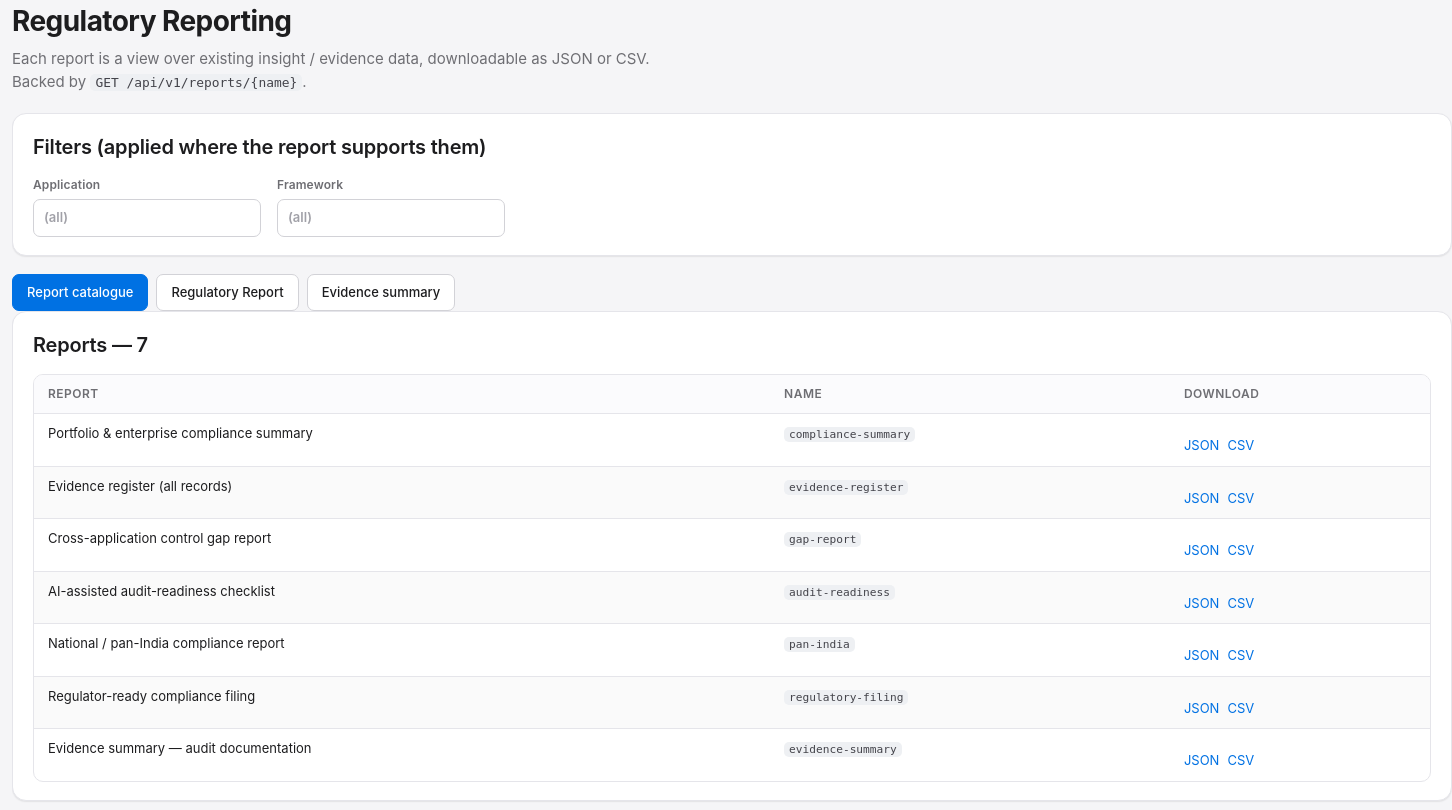
Scenario: Reports (UC17) › Regulatory Report tab renders a regulator-ready filing distinct from the catalogue (mock)
Step 1. Click the button "Regulatory Report" → (228,292), box x1=156 y1=274 x2=299 y2=311
(page scrolled)
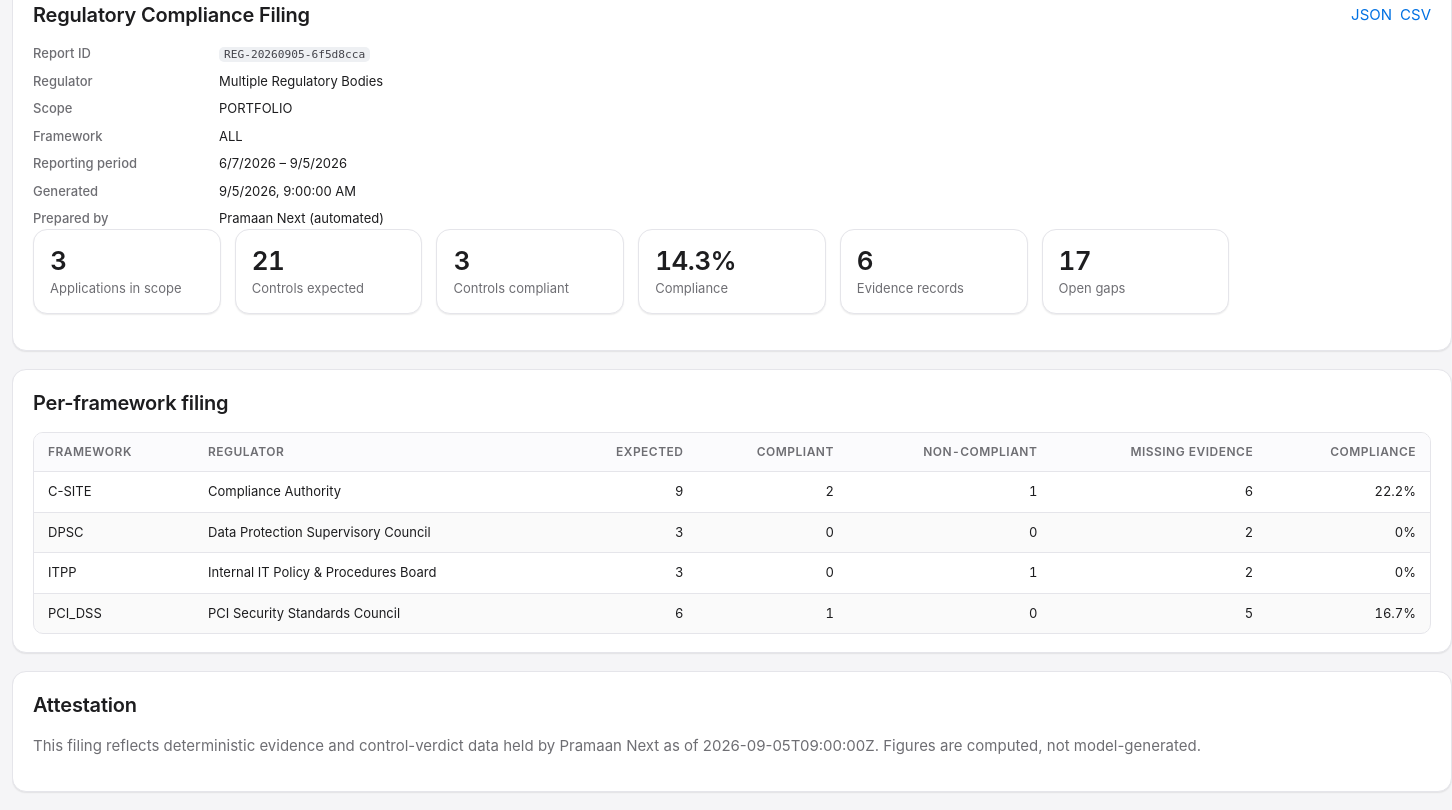
Now the heading "Regulatory Compliance Filing" is shown, box x1=33 y1=0 x2=310 y2=30
Now the text "REG-20260905-6f5d8cca" is shown, box x1=219 y1=47 x2=370 y2=62
Now the heading "Per-framework filing" is shown, box x1=33 y1=388 x2=228 y2=418
